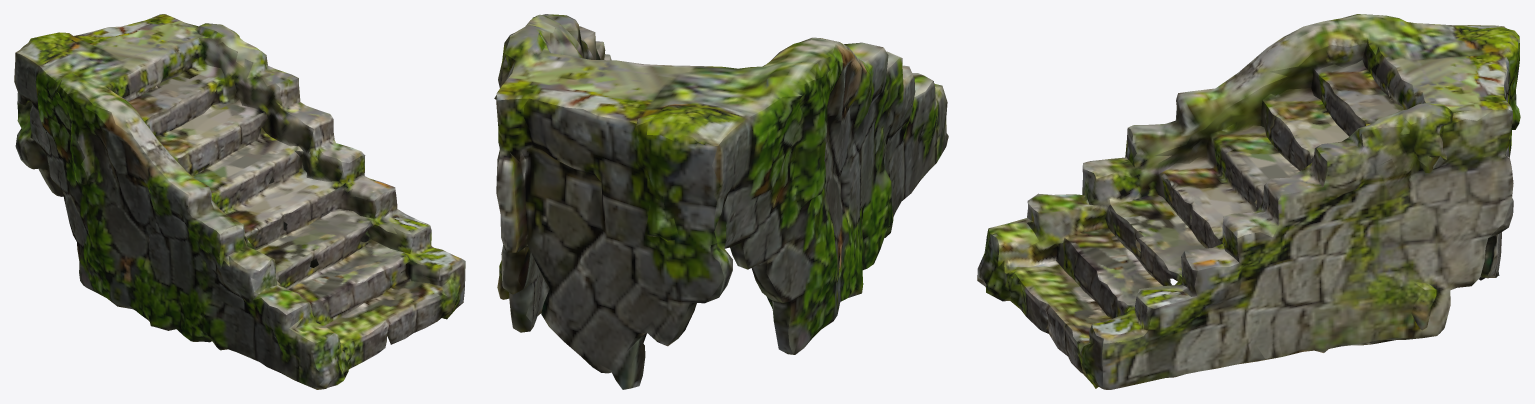
The model's file is F3D_21_Stairs.fbx.
The picture shows the model from 3 angles, left to right: view 1: azimuth 30°, elevation 25°; view 2: azimuth 150°, elevation 25°; view 3: azimuth 270°, elevation 25°; orthographic projection. The views are drawn at different scales.
Visible parts, largest first — view 1: F3D_21_Stairs; view 2: F3D_21_Stairs; view 3: F3D_21_Stairs.
Boxes of the visible parts, <box> form: F3D_21_Stairs: <box>14,14,465,389</box>; F3D_21_Stairs: <box>494,14,948,389</box>; F3D_21_Stairs: <box>977,14,1520,389</box>.
Size of the model in its own units: 1.42 by 1 by 2.09.
